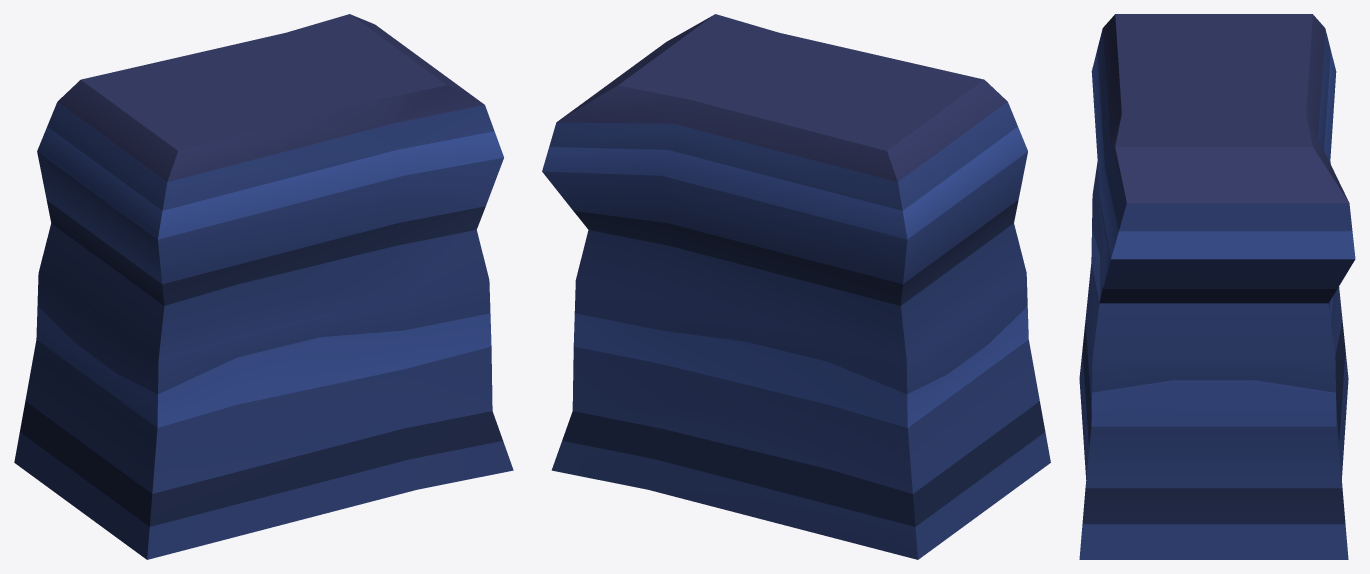
Rendered from StoneWall019.fbx.
3 renders of one model, left to right at view 1: azimuth 30°, elevation 25°; view 2: azimuth 150°, elevation 25°; view 3: azimuth 270°, elevation 25°, orthographic.
Parts seen in each view (by area): view 1: StoneWall019; view 2: StoneWall019; view 3: StoneWall019.
Part boxes in pixels (box(x1,y1,x2,y2)): StoneWall019: box(14, 14, 513, 559); StoneWall019: box(542, 14, 1050, 559); StoneWall019: box(1079, 14, 1355, 559).
Bounding box in the file's own units: 456 × 449 × 289.
